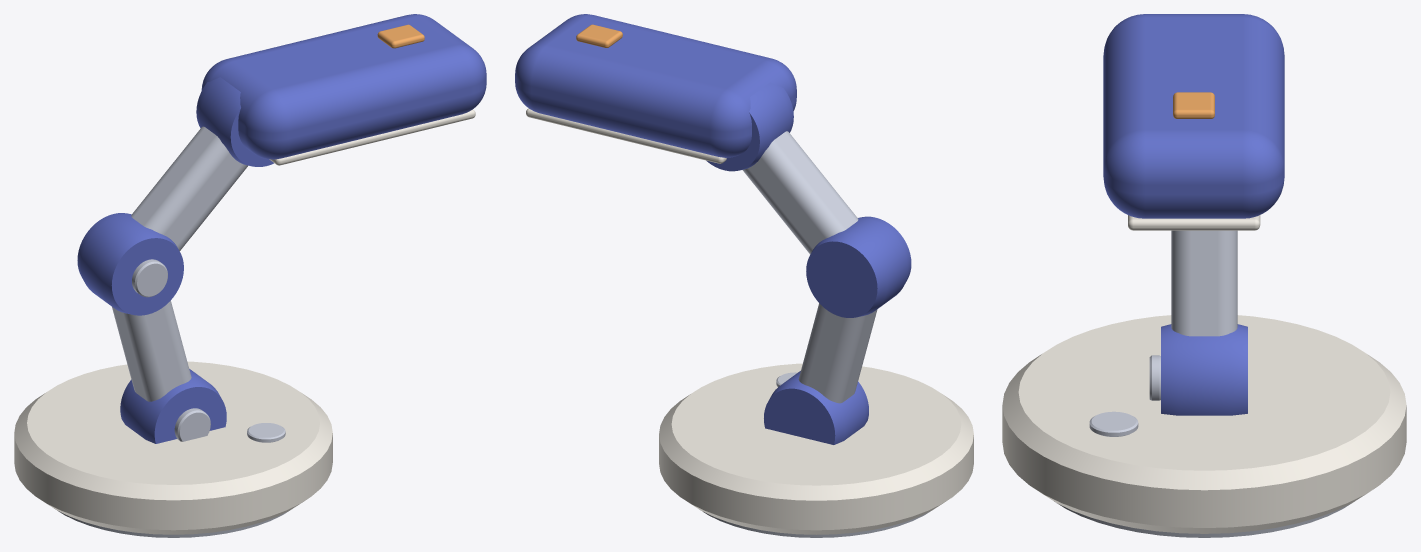
The model's file is task-lamp.glb.
3 renders of one model, left to right at view 1: azimuth 30°, elevation 25°; view 2: azimuth 150°, elevation 25°; view 3: azimuth 270°, elevation 25°, orthographic. The views are drawn at different scales.
Visible parts, largest first — view 1: task-lamp; view 2: task-lamp; view 3: task-lamp.
Part boxes in pixels (x1,y1,x2,y2): task-lamp: [14, 14, 486, 537]; task-lamp: [515, 14, 973, 537]; task-lamp: [1002, 14, 1406, 537].
Size of the model in its own units: 1.78 by 1.6 by 1.16.
